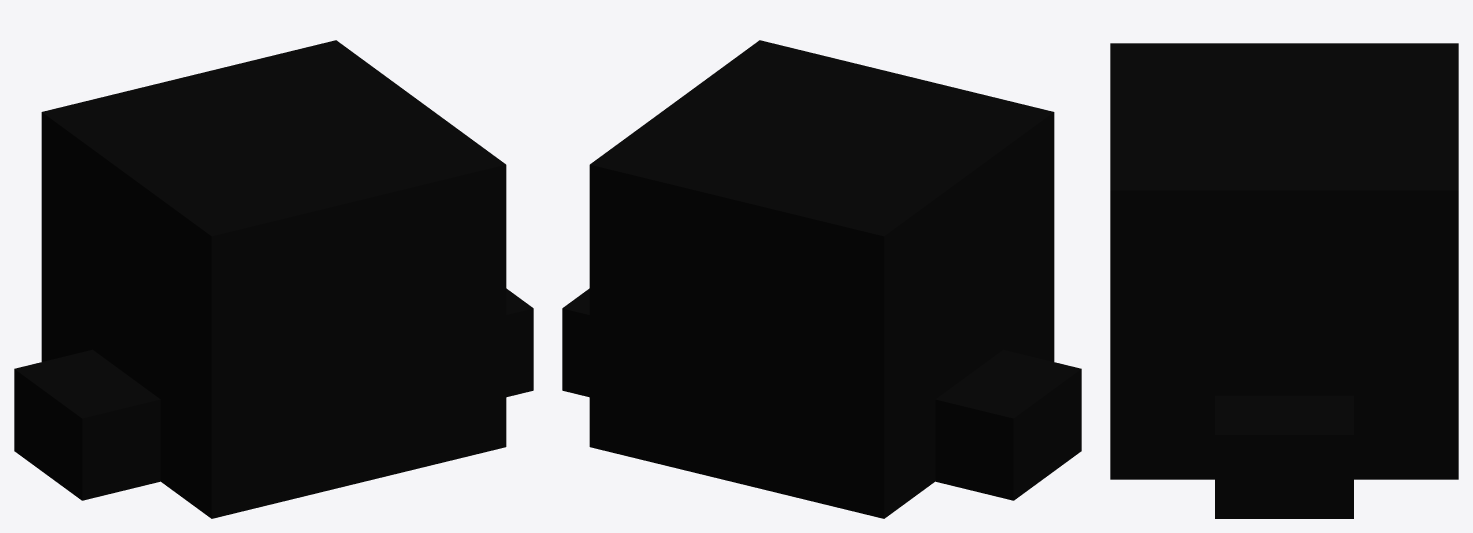
File: charred_stump.gltf
The picture shows the model from 3 angles, left to right: view 1: azimuth 30°, elevation 25°; view 2: azimuth 150°, elevation 25°; view 3: azimuth 270°, elevation 25°; orthographic projection. The views are drawn at different scales.
Visible parts, largest first — view 1: trunk, root_a, root_b; view 2: trunk, root_a, root_b; view 3: trunk, root_b.
Part boxes in pixels (bbox=[...]): trunk: bbox=[41, 40, 506, 518]; root_a: bbox=[14, 349, 160, 500]; root_b: bbox=[506, 288, 533, 397]; trunk: bbox=[589, 40, 1054, 518]; root_a: bbox=[935, 349, 1081, 500]; root_b: bbox=[562, 288, 589, 397]; trunk: bbox=[1110, 43, 1458, 479]; root_b: bbox=[1215, 395, 1353, 518].
Bounding box in the file's own units: 0.575 × 0.4125 × 0.375.
Materials: 3 (3 with a texture image).
